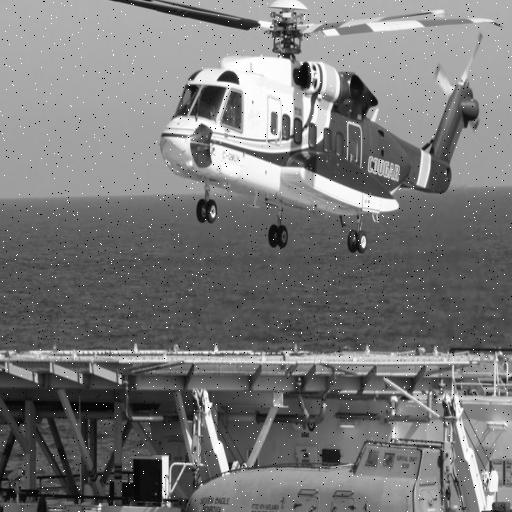helicopter: (69, 1, 503, 259)
